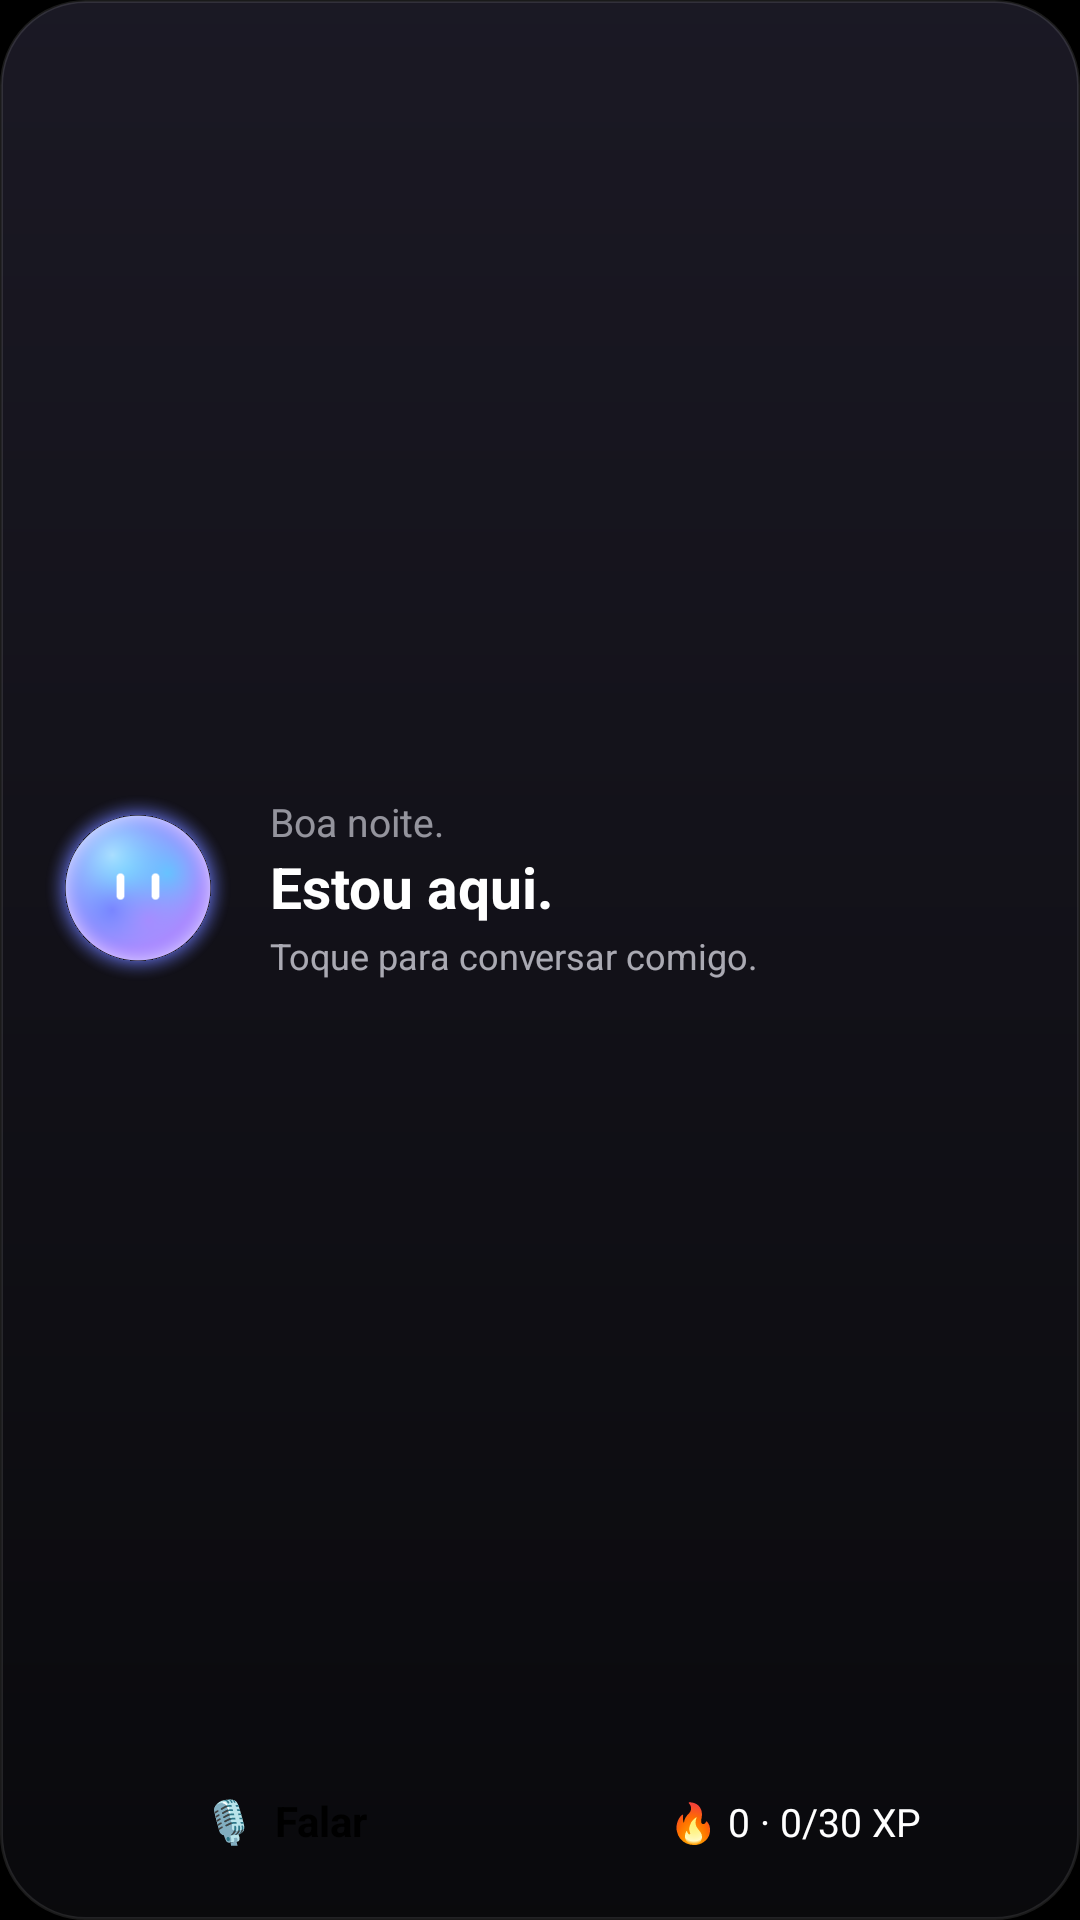

Screen size 1080px×1920px. Icon name, then its center in pixels as (x=x, y=y):
orb calmo: (x=138, y=888)
